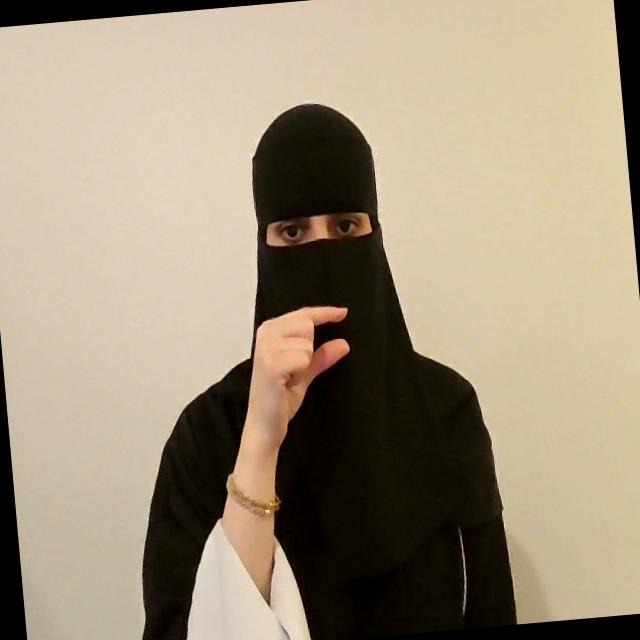fasting: (232, 300, 360, 452)
